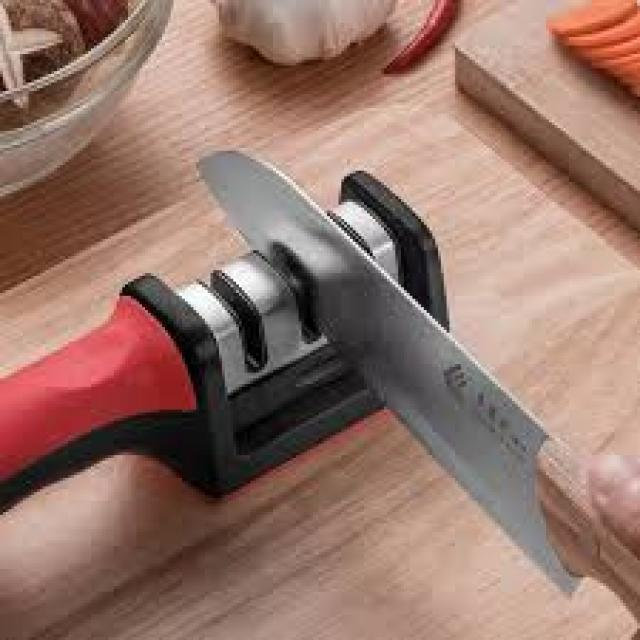knife: (194, 100, 608, 629)
